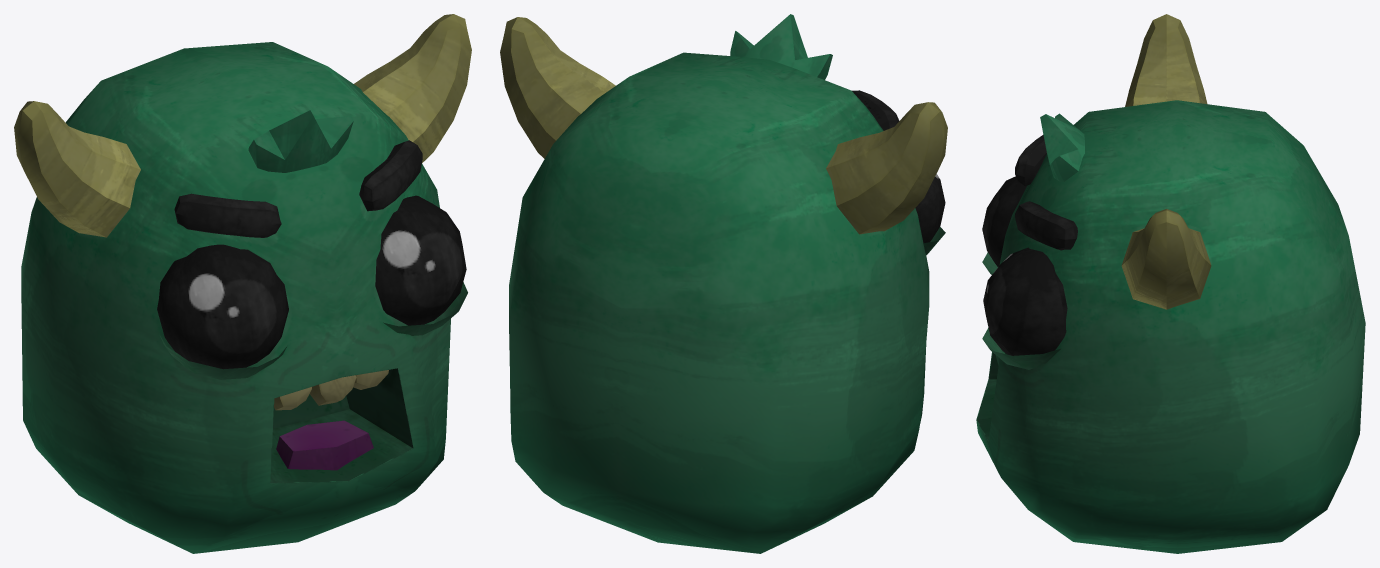
Rendered from greendemon.glb.
3 views of the same model, side by side, from view 1: azimuth 30°, elevation 25°; view 2: azimuth 150°, elevation 25°; view 3: azimuth 270°, elevation 25° (orthographic). The views are drawn at different scales.
Parts seen in each view (by area): view 1: GreenDemon_Cube.000; view 2: GreenDemon_Cube.000; view 3: GreenDemon_Cube.000.
Part boxes in pixels (x1=…): GreenDemon_Cube.000: x1=14, y1=14, x2=471, y2=553; GreenDemon_Cube.000: x1=500, y1=14, x2=947, y2=553; GreenDemon_Cube.000: x1=976, y1=14, x2=1365, y2=553.
Bounding box in the file's own units: 1.68 × 1.67 × 1.42.
1 material, 1 textured.
